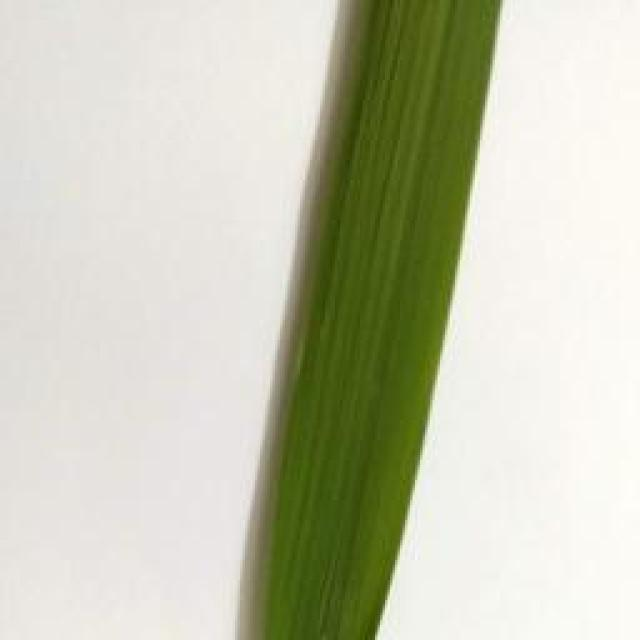Healthy-Plant: (263, 1, 507, 640)
